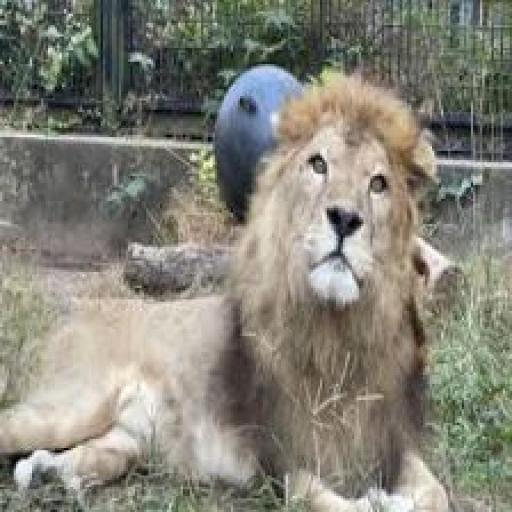lion: (23, 62, 458, 505)
